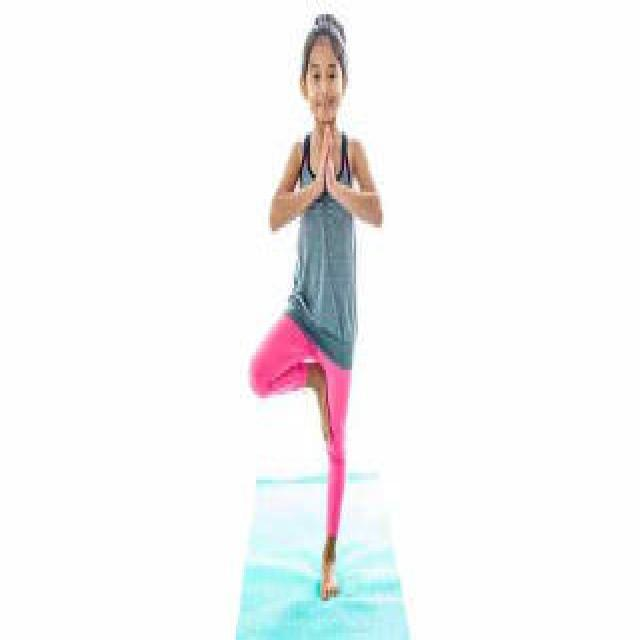yoga-pose tree: (245, 14, 388, 597)
